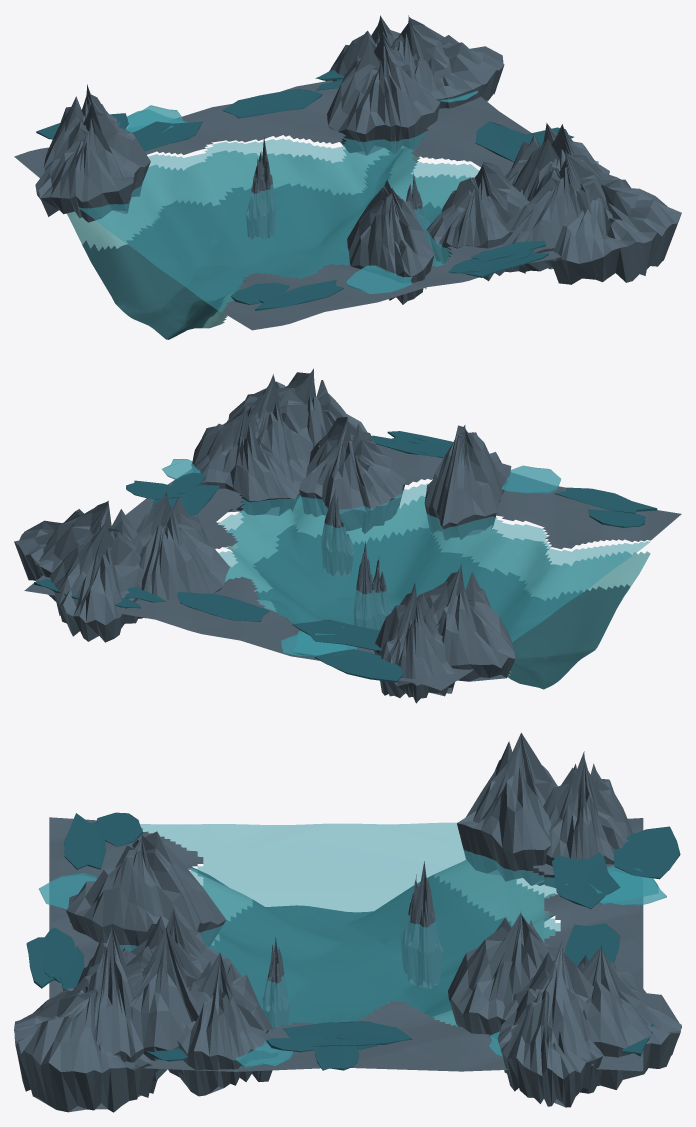
Rendered from water_tile_04.glb.
3 views of the same model, one above another, from view 1: azimuth 30°, elevation 25°; view 2: azimuth 150°, elevation 25°; view 3: azimuth 270°, elevation 25° (orthographic). The views are drawn at different scales.
Parts seen in each view (by area): view 1: glacial water surface 04, submerged mineral riverbed.004, single continuous dark slate shoreline.004, visible shallow mineral shelves.004, angular fractured shoreline ledge.058, angular fractured shoreline ledge.052, angular fractured shoreline ledge.050, angular fractured shoreline ledge.059, angular fractured shoreline ledge.057, angular fractured shoreline ledge.056, angular fractured shoreline ledge.048, angular fractured shoreline ledge.055 (+18 smaller); view 2: glacial water surface 04, submerged mineral riverbed.004, single continuous dark slate shoreline.004, visible shallow mineral shelves.004, angular fractured shoreline ledge.057, angular fractured shoreline ledge.053, angular fractured shoreline ledge.054, angular fractured shoreline ledge.052, angular fractured shoreline ledge.059, angular fractured shoreline ledge.050, angular fractured shoreline ledge.049, angular fractured shoreline ledge.055 (+18 smaller); view 3: glacial water surface 04, submerged mineral riverbed.004, single continuous dark slate shoreline.004, angular fractured shoreline ledge.058, angular fractured shoreline ledge.059, angular fractured shoreline ledge.050, angular fractured shoreline ledge.054, angular fractured shoreline ledge.053, angular fractured shoreline ledge.052, angular fractured shoreline ledge.055, angular fractured shoreline ledge.048, angular fractured shoreline ledge.049 (+21 smaller).
Part boxes in pixels (box(x1,y1,x2,y2)): glacial water surface 04: box(78, 132, 478, 312); submerged mineral riverbed.004: box(82, 148, 441, 339); single continuous dark slate shoreline.004: box(14, 80, 560, 330); visible shallow mineral shelves.004: box(66, 144, 470, 328); angular fractured shoreline ledge.058: box(548, 179, 681, 284); angular fractured shoreline ledge.052: box(327, 31, 440, 155); angular fractured shoreline ledge.050: box(35, 103, 150, 222); angular fractured shoreline ledge.059: box(347, 180, 434, 304); angular fractured shoreline ledge.057: box(426, 161, 529, 281); angular fractured shoreline ledge.056: box(502, 150, 630, 271); angular fractured shoreline ledge.048: box(413, 35, 504, 108); angular fractured shoreline ledge.055: box(512, 124, 602, 215); glacial water surface 04: box(218, 483, 649, 642); submerged mineral riverbed.004: box(253, 524, 630, 689); single continuous dark slate shoreline.004: box(24, 444, 681, 690); visible shallow mineral shelves.004: box(225, 495, 650, 678); angular fractured shoreline ledge.057: box(299, 417, 406, 533); angular fractured shoreline ledge.053: box(50, 523, 143, 642); angular fractured shoreline ledge.054: box(191, 405, 306, 515); angular fractured shoreline ledge.052: box(130, 491, 229, 618); angular fractured shoreline ledge.059: box(424, 425, 511, 540); angular fractured shoreline ledge.050: box(417, 564, 515, 681); angular fractured shoreline ledge.049: box(374, 583, 455, 703); angular fractured shoreline ledge.055: box(247, 374, 312, 483); glacial water surface 04: box(119, 822, 560, 1029); submerged mineral riverbed.004: box(192, 867, 512, 1024); single continuous dark slate shoreline.004: box(49, 817, 643, 1071); angular fractured shoreline ledge.058: box(14, 986, 158, 1112); angular fractured shoreline ledge.059: box(66, 831, 226, 951); angular fractured shoreline ledge.050: box(457, 732, 557, 885); angular fractured shoreline ledge.054: box(168, 952, 278, 1096); angular fractured shoreline ledge.053: box(501, 945, 681, 1089); angular fractured shoreline ledge.052: box(448, 909, 558, 1038); angular fractured shoreline ledge.055: box(67, 927, 211, 1080); angular fractured shoreline ledge.048: box(497, 988, 602, 1107); angular fractured shoreline ledge.049: box(537, 751, 633, 887).
Bounding box in the file's own units: 1.15 × 0.3775 × 1.12.
